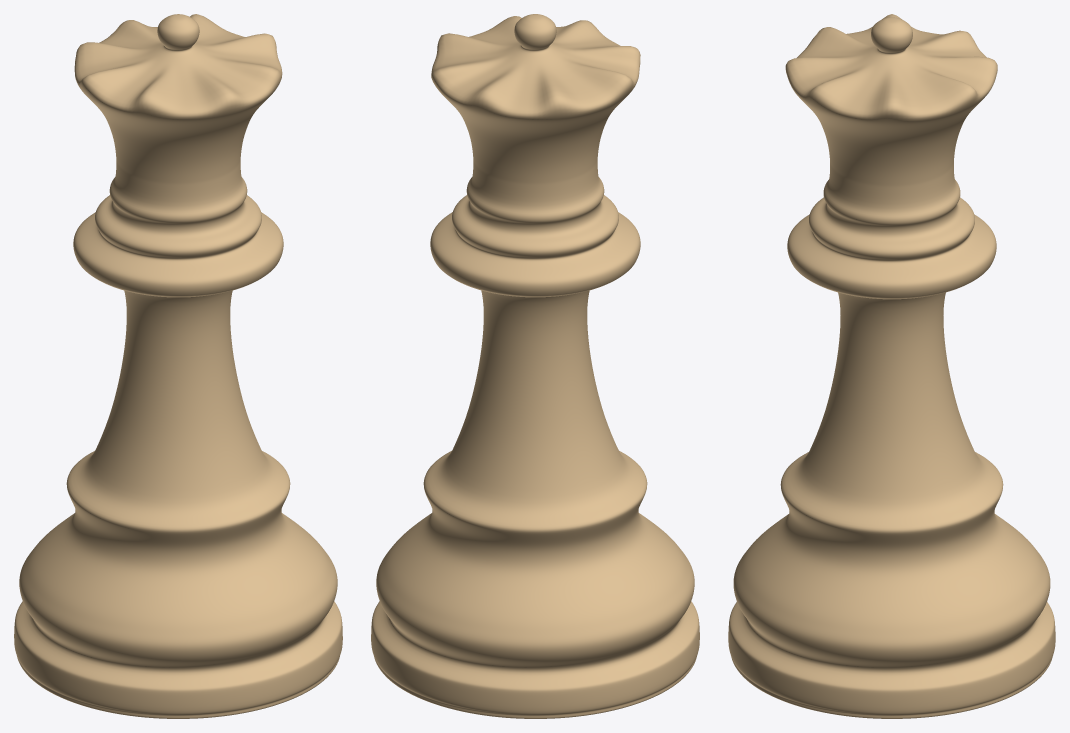
Rendered from Reina.fbx.
3 views of the same model, side by side, from view 1: azimuth 30°, elevation 25°; view 2: azimuth 150°, elevation 25°; view 3: azimuth 270°, elevation 25° (orthographic).
Parts seen in each view (by area): view 1: Reina; view 2: Reina; view 3: Reina.
Part boxes in pixels (x1,y1,x2,y2): Reina: (14, 14, 342, 718); Reina: (371, 14, 699, 718); Reina: (728, 14, 1055, 718).
Bounding box in the file's own units: 78.45 × 167 × 78.45.
